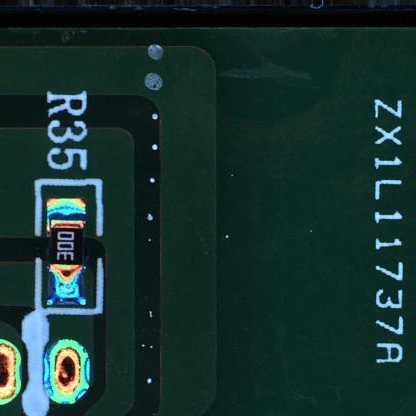spot: (43, 338, 90, 405), (1, 339, 22, 406)
